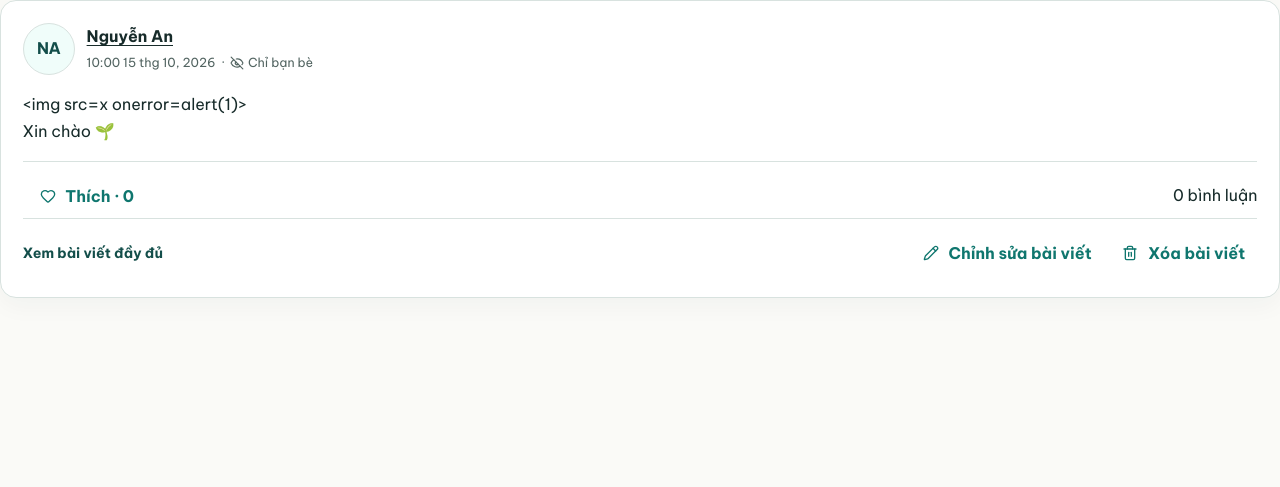
it: PostCard › announces inline editor validation and associates the error with the field
Click the button "Chỉnh sửa bài viết" at (1007, 253), box [911,231,1104,275]
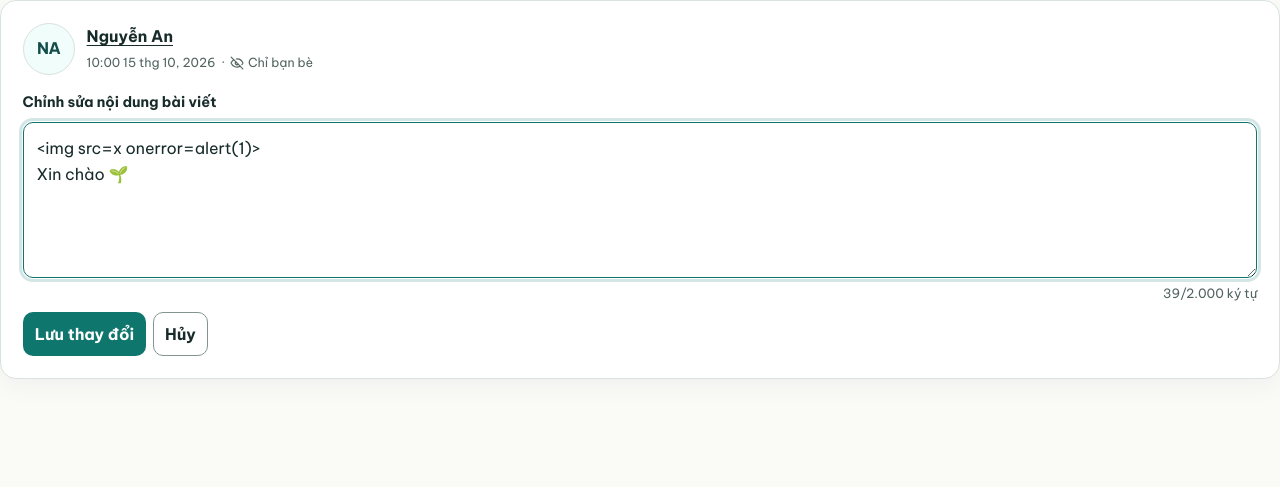
Clear the text box labelled "Chỉnh sửa nội dung bài viết" at (640, 200), box [23,122,1257,278]
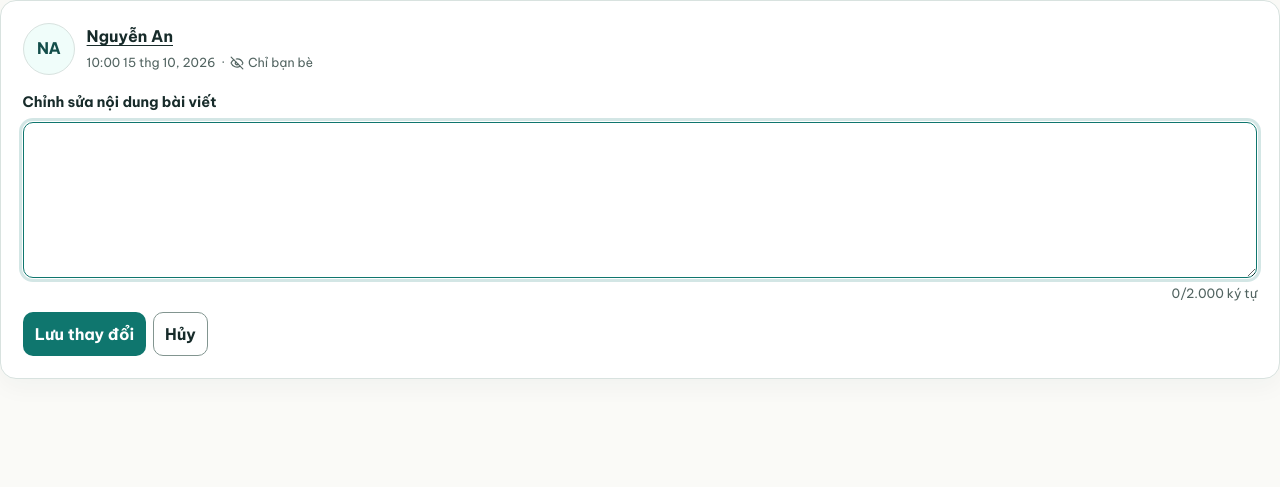
Click the button "Lưu thay đổi" at (84, 334), box [23,312,146,356]
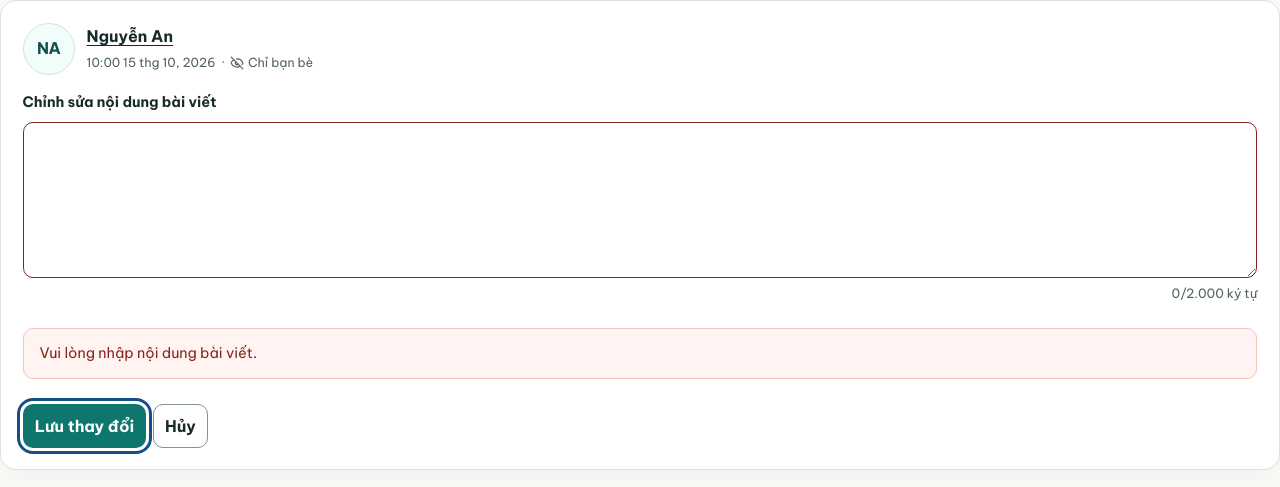
Check: the message reads "Vui lòng nhập nội dung bài viết.", box [40,344,257,362]
